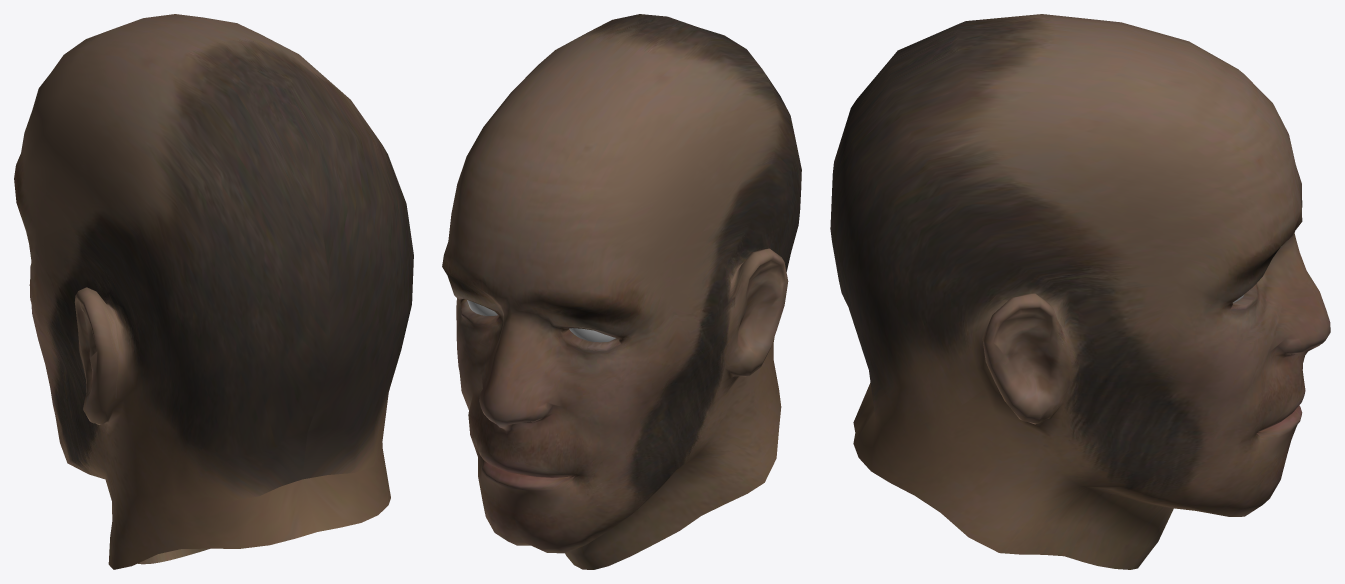
The model's file is G3_Head_Slave_Myrtana_Animated_02_S10.obj.
The picture shows the model from 3 angles, left to right: view 1: azimuth 30°, elevation 25°; view 2: azimuth 150°, elevation 25°; view 3: azimuth 270°, elevation 25°; orthographic projection. The views are drawn at different scales.
Parts seen in each view (by area): view 1: G3_Animation_Head_Slave_Main_02; view 2: G3_Animation_Head_Slave_Main_02; view 3: G3_Animation_Head_Slave_Main_02.
Part boxes in pixels (x1=…): G3_Animation_Head_Slave_Main_02: x1=14, y1=14, x2=413, y2=569; G3_Animation_Head_Slave_Main_02: x1=442, y1=14, x2=801, y2=569; G3_Animation_Head_Slave_Main_02: x1=830, y1=14, x2=1330, y2=569.
Bounding box in the file's own units: 0.1382 × 0.2411 × 0.2036.
